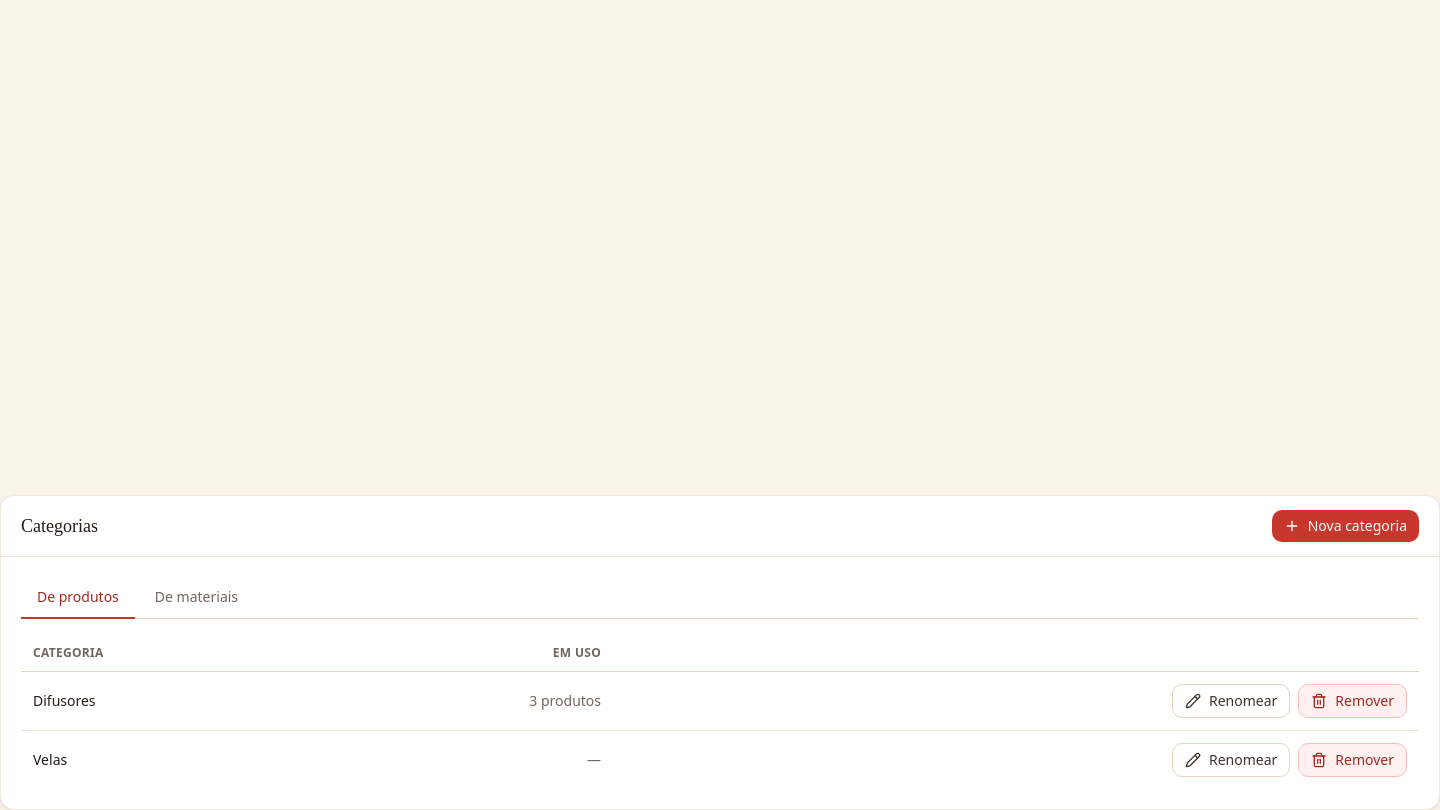
Test: Configurações → Categorias › remove direto uma categoria vazia, após confirmar
(page scrolled)
Step 1. Click the button with aria-label "Remover Velas" → coordinates (1353, 760), box [1298, 743, 1407, 777]
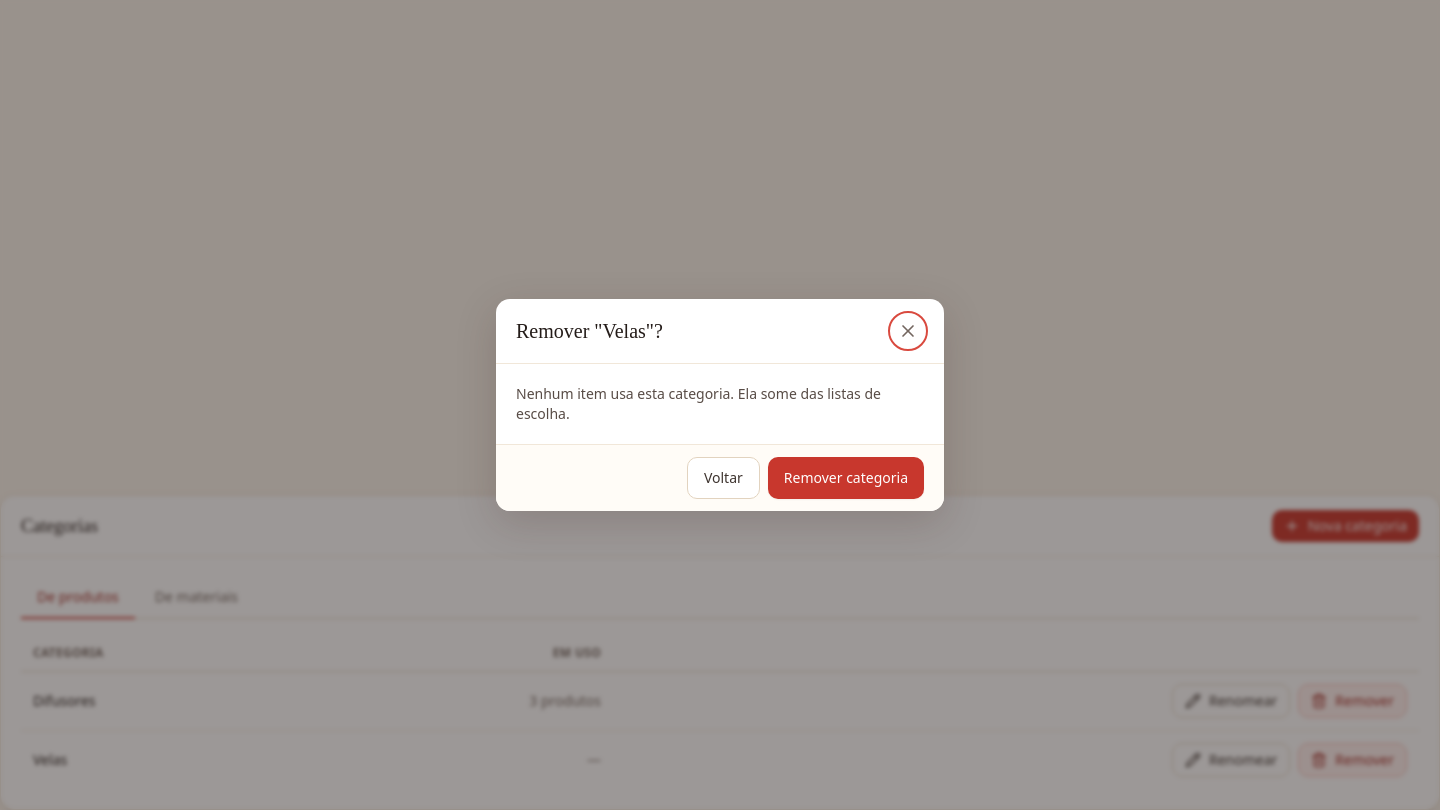
Step 2. Click the button "Remover categoria" → coordinates (846, 478), box [768, 457, 924, 499]
(page scrolled)
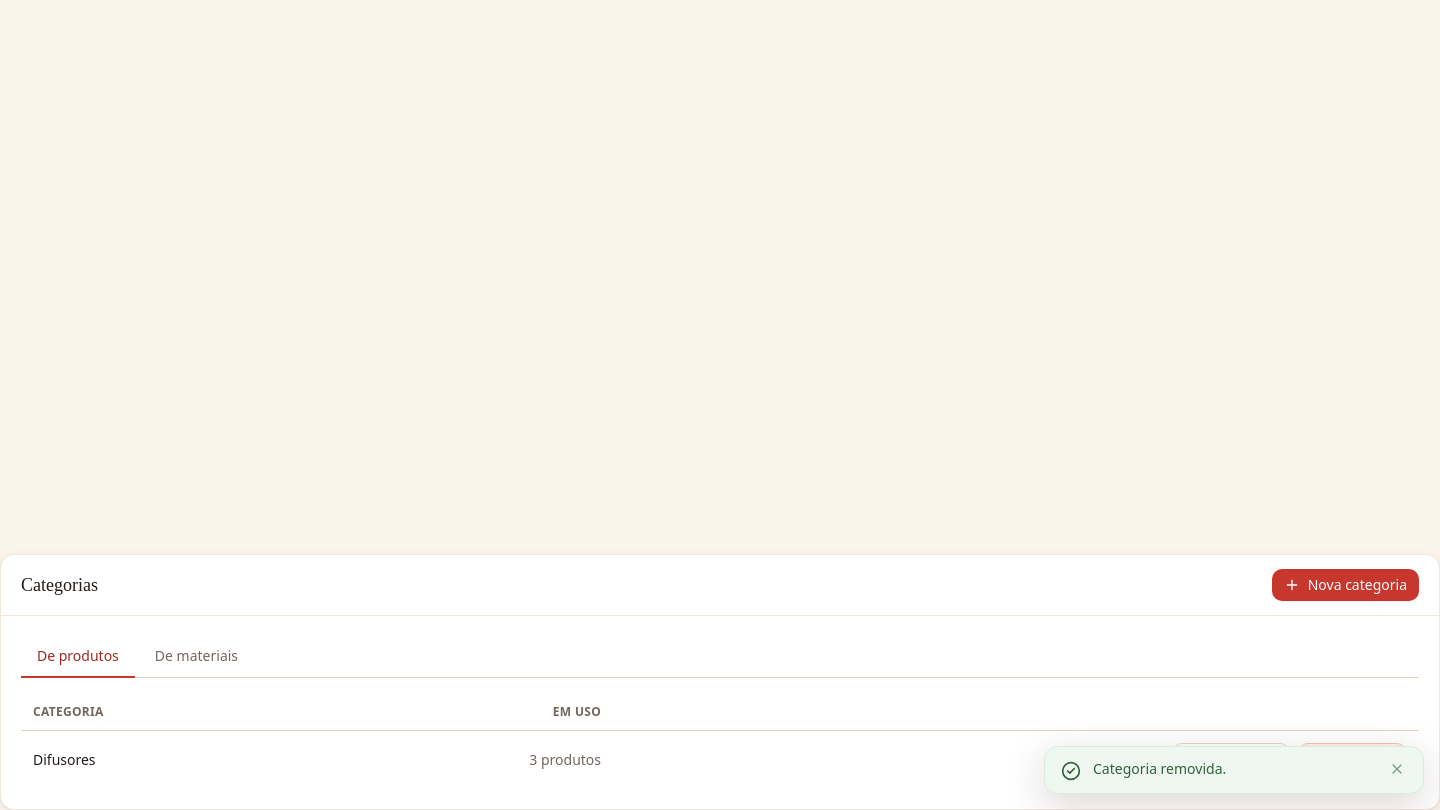
Expected: the text "Velas" is gone
